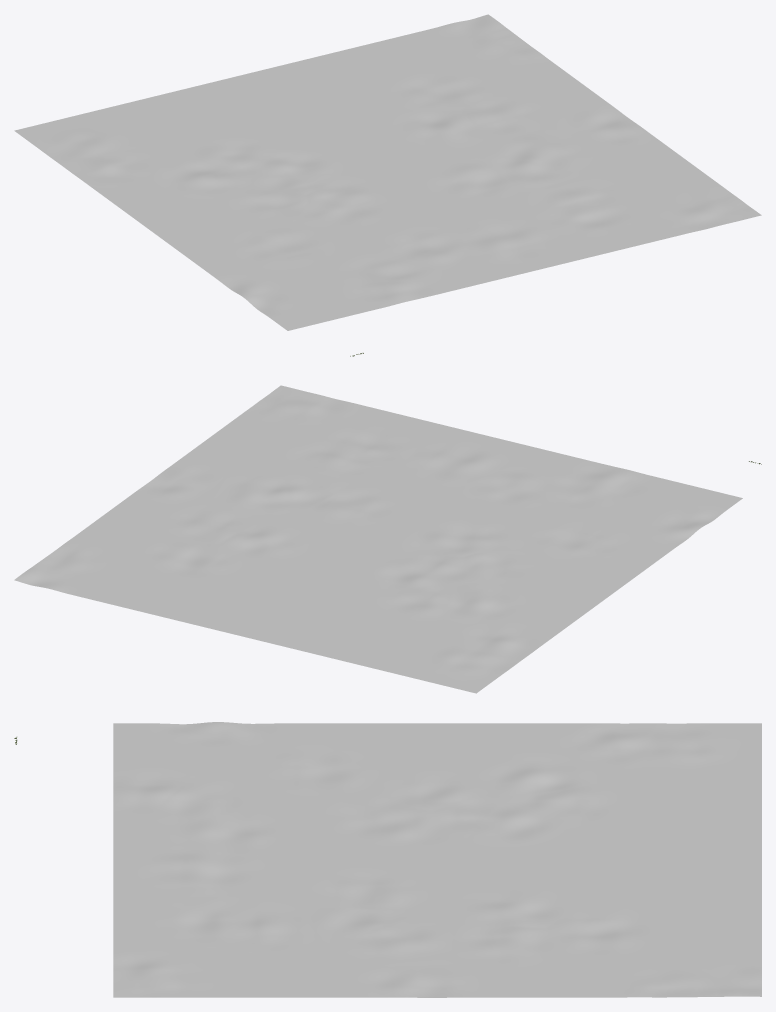
Rendered from Grass_patches_obj.obj.
3 renders of one model, top to bottom at view 1: azimuth 30°, elevation 25°; view 2: azimuth 150°, elevation 25°; view 3: azimuth 270°, elevation 25°, orthographic. The views are drawn at different scales.
Visible parts, largest first — view 1: field_ground_multiscatter; view 2: field_ground_multiscatter; view 3: field_ground_multiscatter.
Boxes of the visible parts, x1=… form: field_ground_multiscatter: x1=14, y1=14, x2=761, y2=330; field_ground_multiscatter: x1=14, y1=385, x2=742, y2=693; field_ground_multiscatter: x1=113, y1=722, x2=761, y2=997.
Bounding box in the file's own units: 30000 × 132 × 34585.
